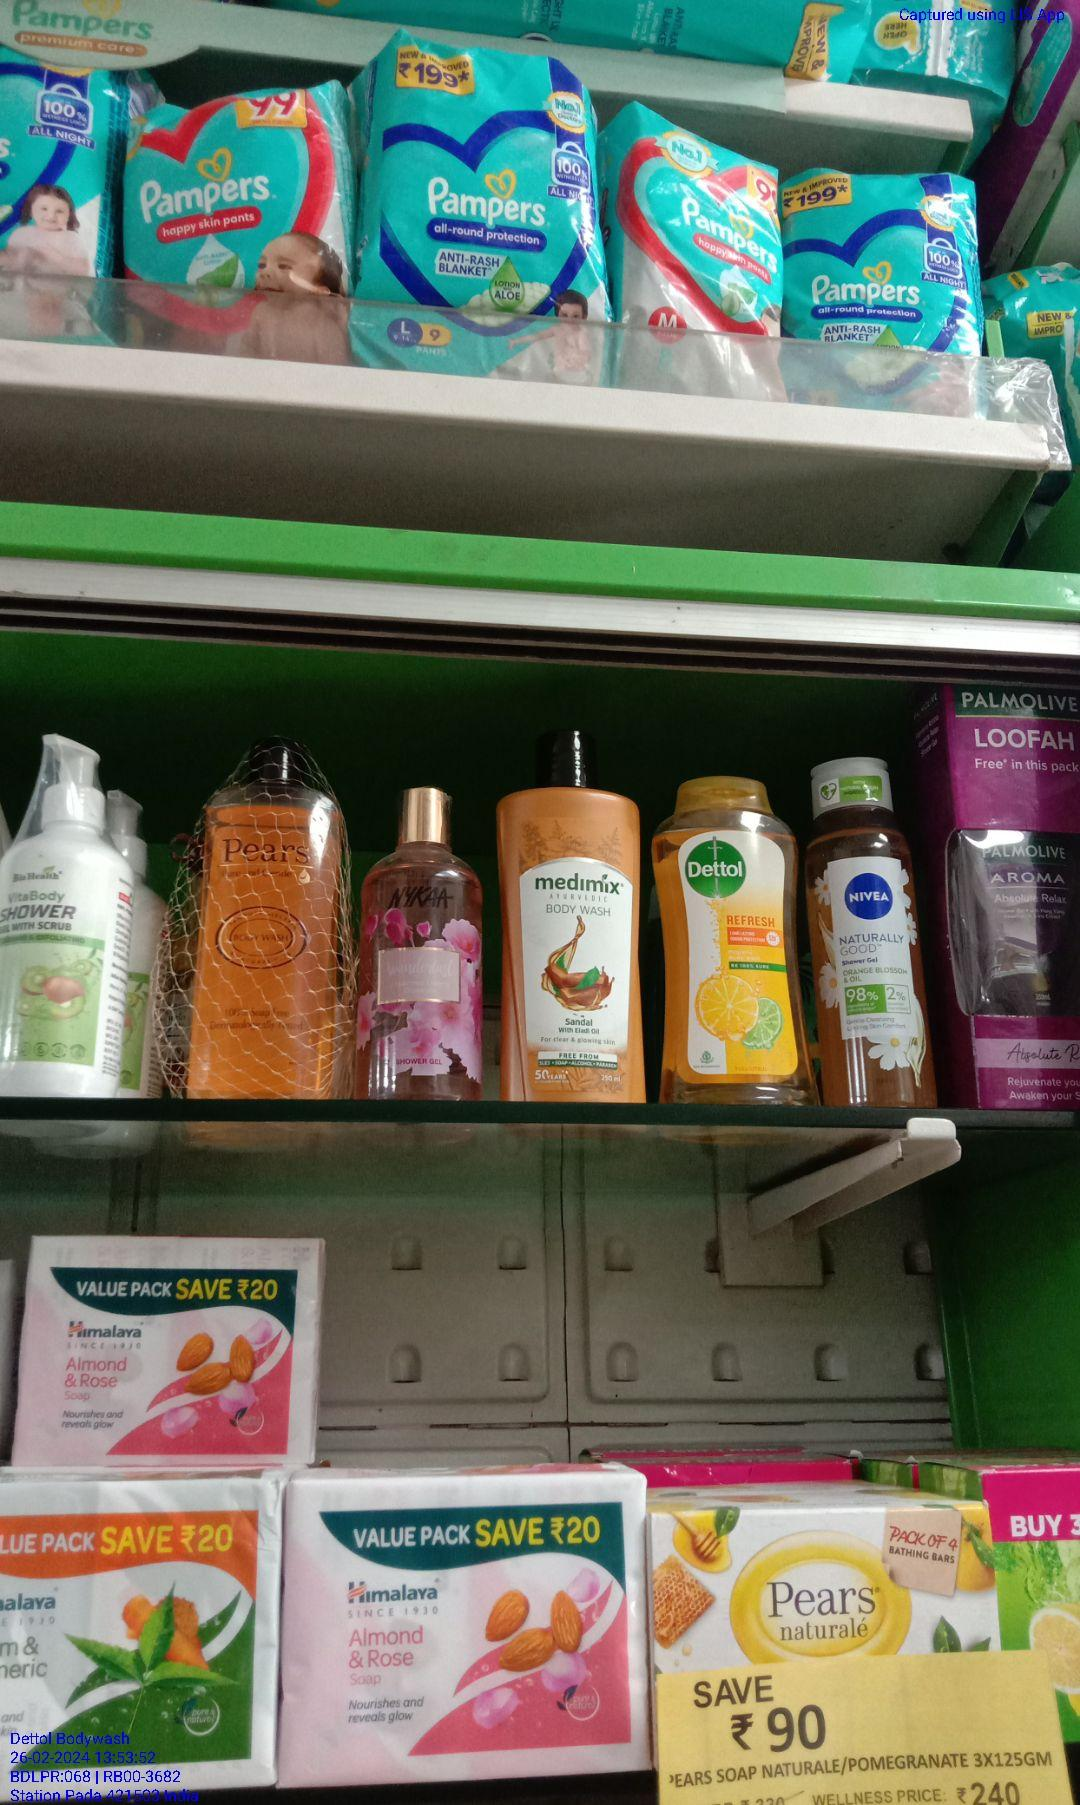Dettol_Bodywash_Refresh: (653, 770, 816, 1108)
